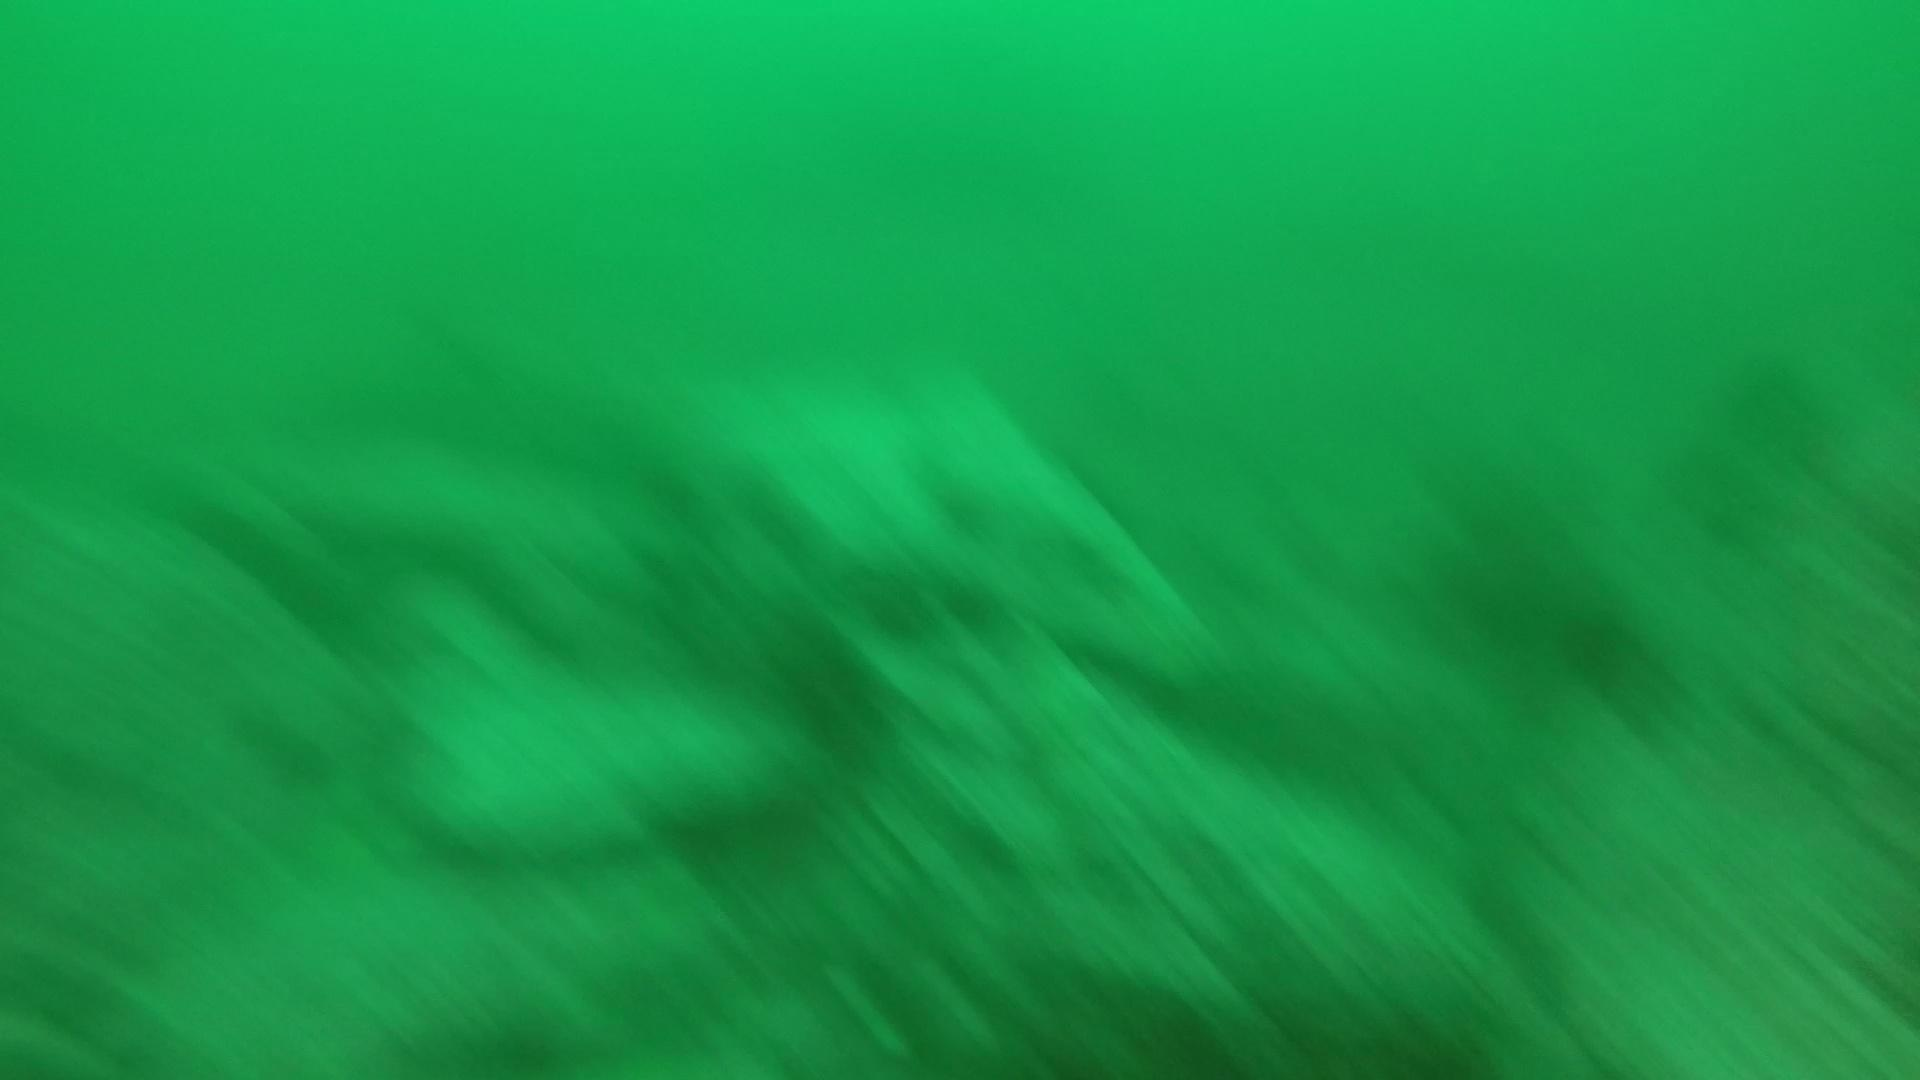echinus: (1549, 593, 1650, 692), (856, 563, 942, 647), (939, 572, 1007, 638)
